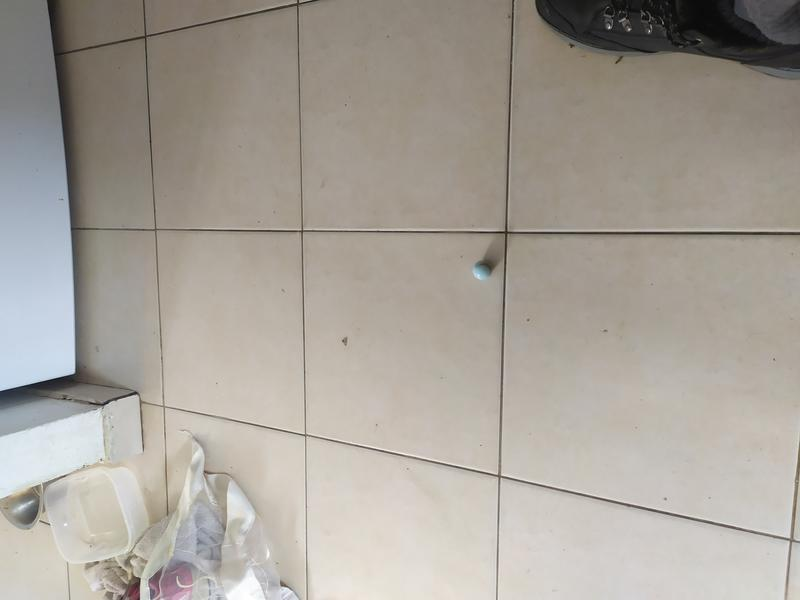Warning: (471, 257, 496, 283)
